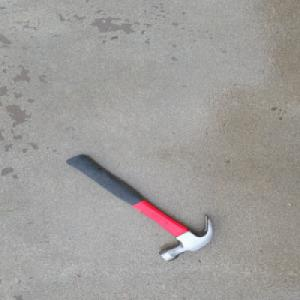Hammer: (63, 153, 214, 264)
